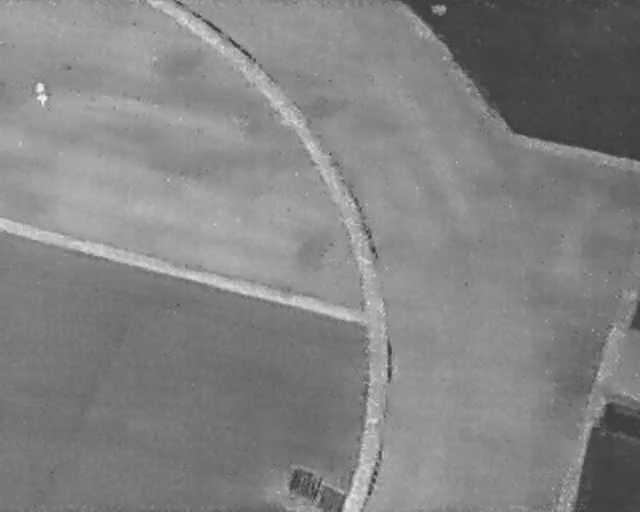Person: (31, 80, 51, 107)
